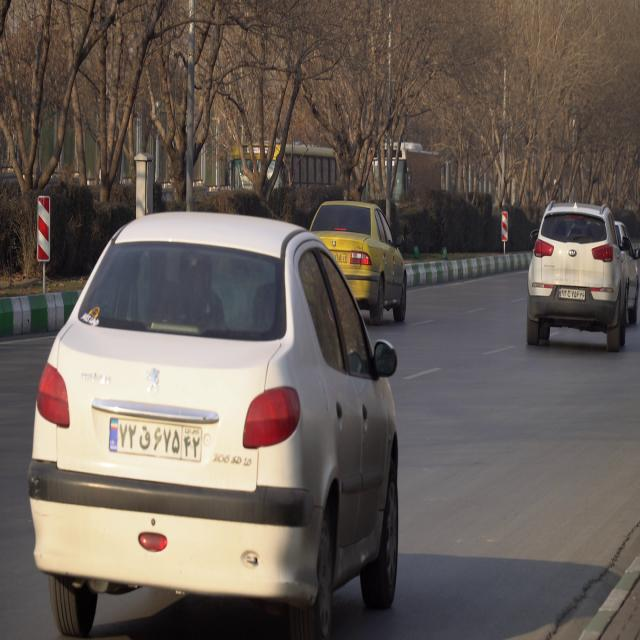car: (32, 212, 398, 618), (524, 207, 624, 349), (313, 202, 409, 322)
